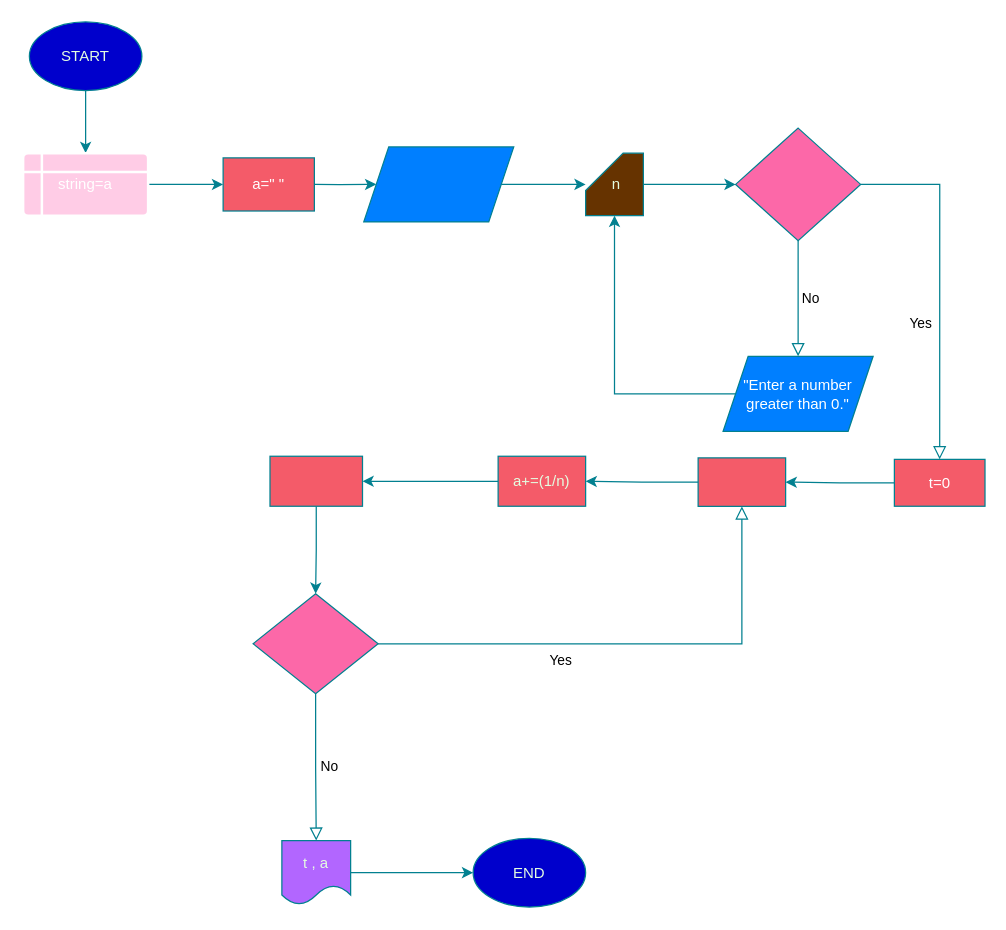
Image size: 1006x930. Some labels were removed from this diagram. Here are the shapes that lost their labels. From the top down, the centre of each, then its label:
(x=438, y=184): "Enter a number."
(x=797, y=184): n>=1
(x=315, y=480): n--
(x=741, y=481): t+=(1/n)
(x=315, y=643): n>0
